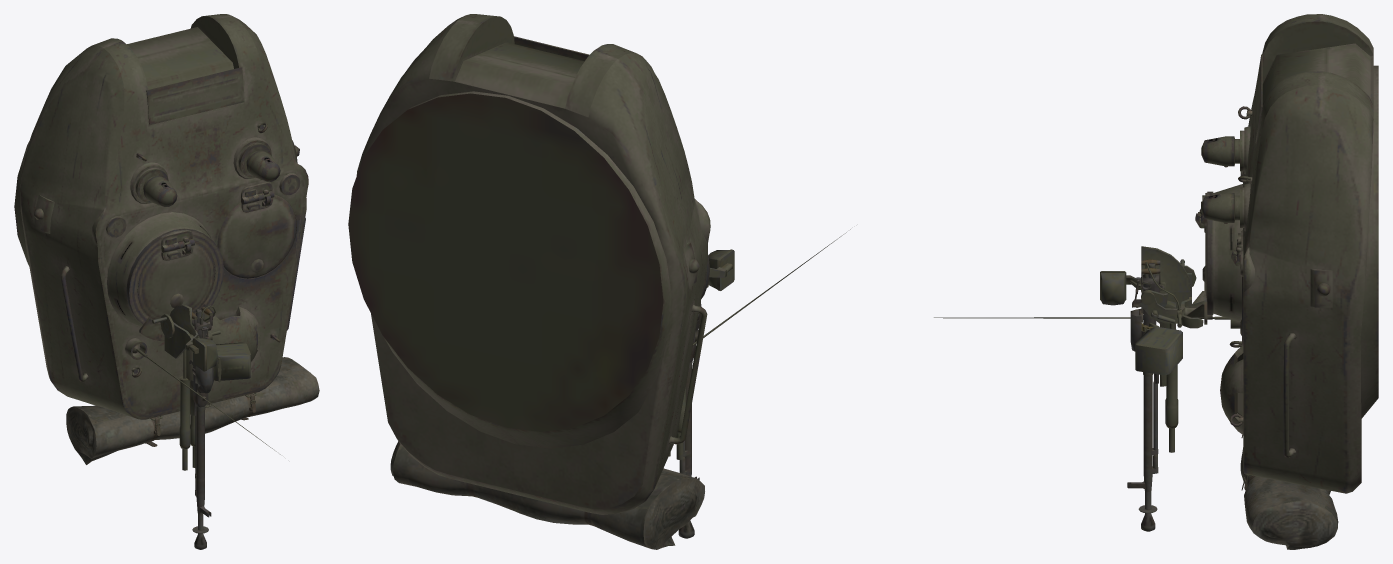
File: Turret_01.glb
The picture shows the model from 3 angles, left to right: view 1: azimuth 30°, elevation 25°; view 2: azimuth 150°, elevation 25°; view 3: azimuth 270°, elevation 25°; orthographic projection. The views are drawn at different scales.
Visible parts, largest first — view 1: set_0_group_0; view 2: set_0_group_0; view 3: set_0_group_0.
Boxes of the visible parts, x1,y1,x2,y2 form: set_0_group_0: (14, 14, 319, 549); set_0_group_0: (348, 14, 850, 549); set_0_group_0: (934, 14, 1378, 549).
Size of the model in its own units: 1.9 by 3.09 by 2.7.
Materials: 1 (1 with a texture image).
